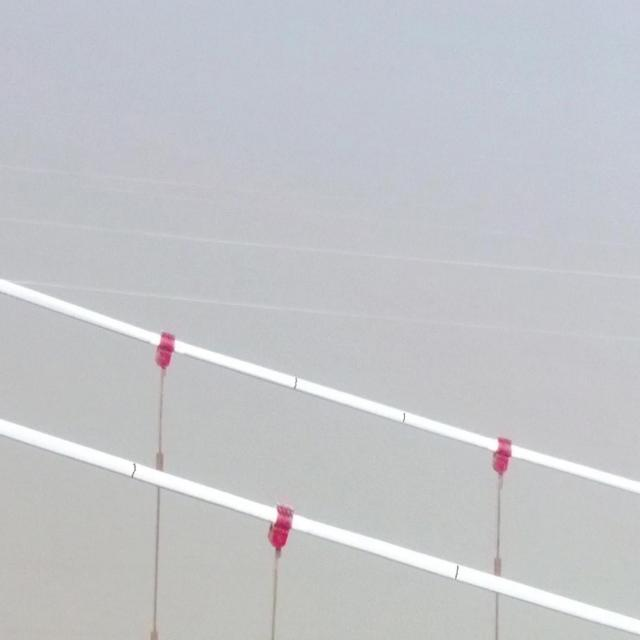crack: (131, 463, 137, 478), (454, 566, 460, 580), (292, 377, 298, 390), (402, 412, 406, 422)
